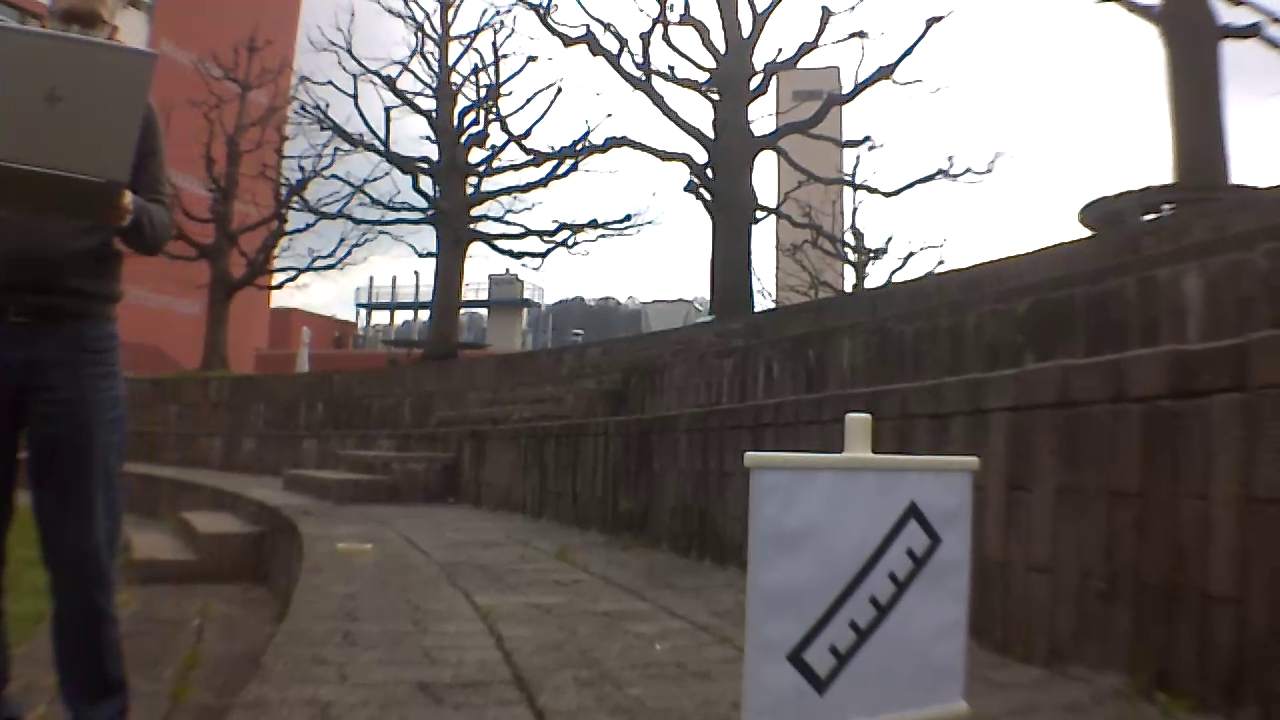ruler: (783, 497, 946, 693)
